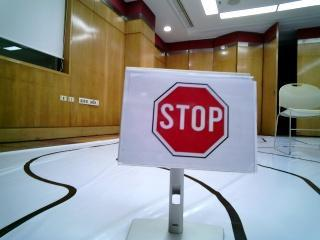stop: (133, 69, 247, 163)
